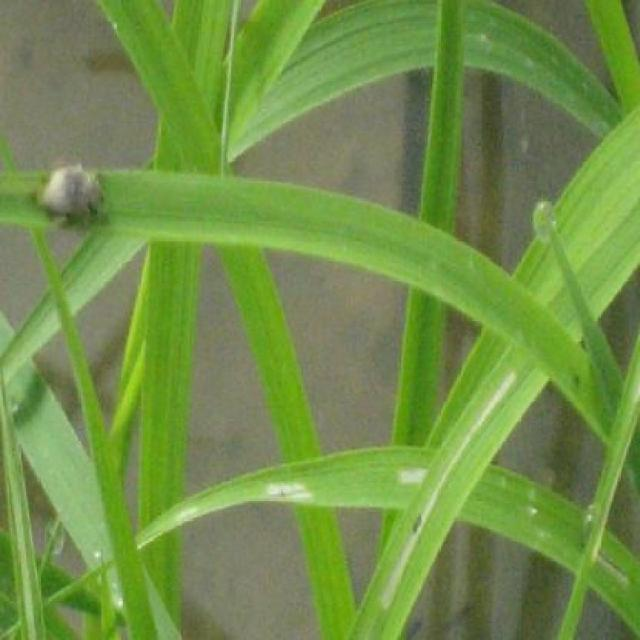rice-bug: (38, 162, 108, 229)
